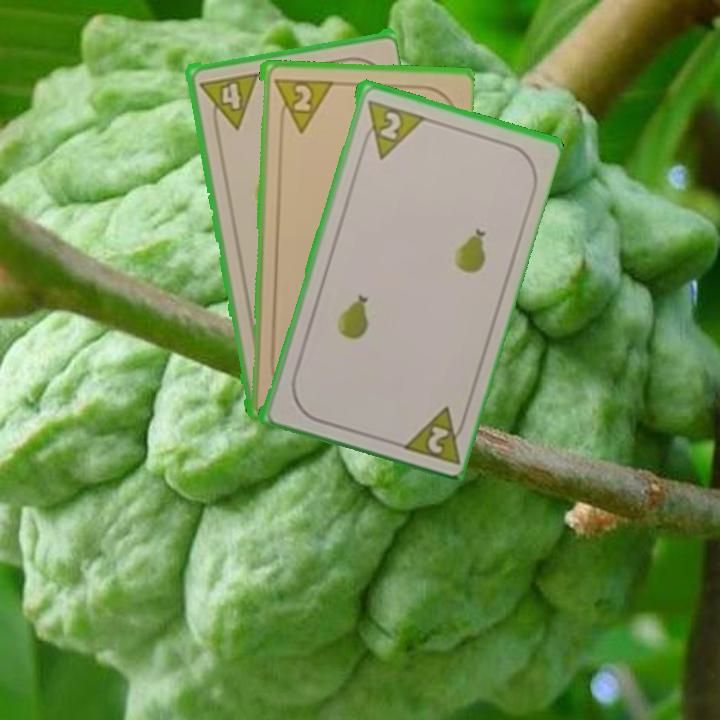2p: (395, 401, 470, 467), (359, 95, 425, 161), (270, 74, 333, 135)
4p: (195, 69, 260, 134)
